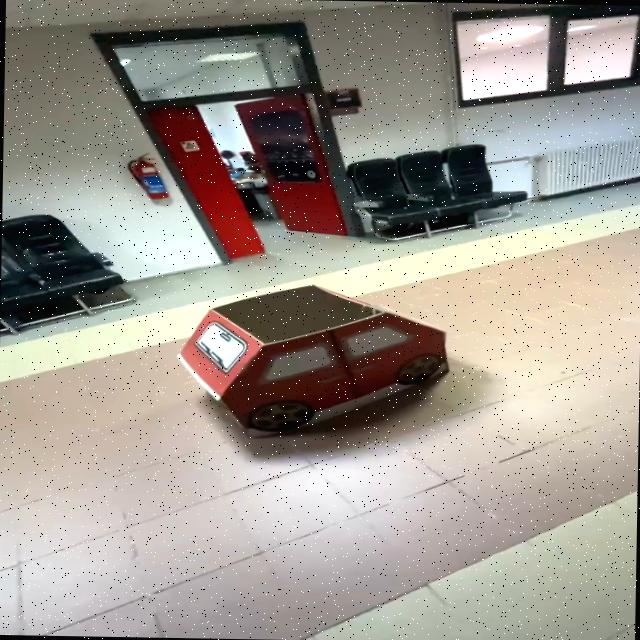red_car: (146, 267, 483, 454)
